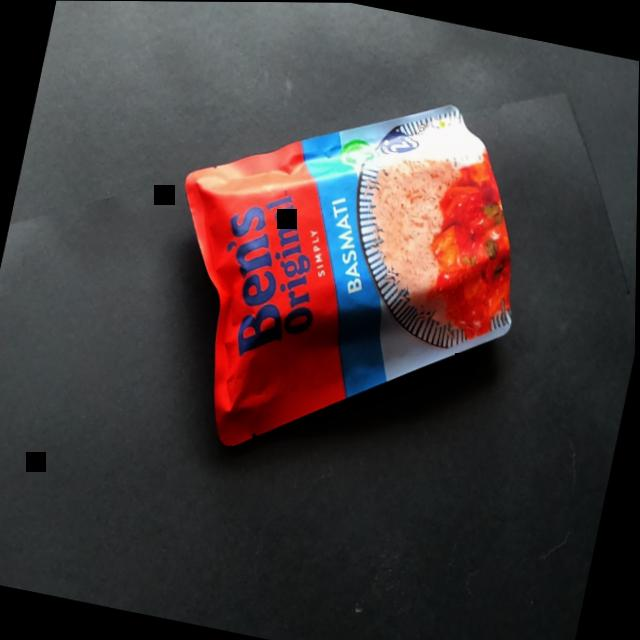Basmatirice: (115, 16, 577, 514)
